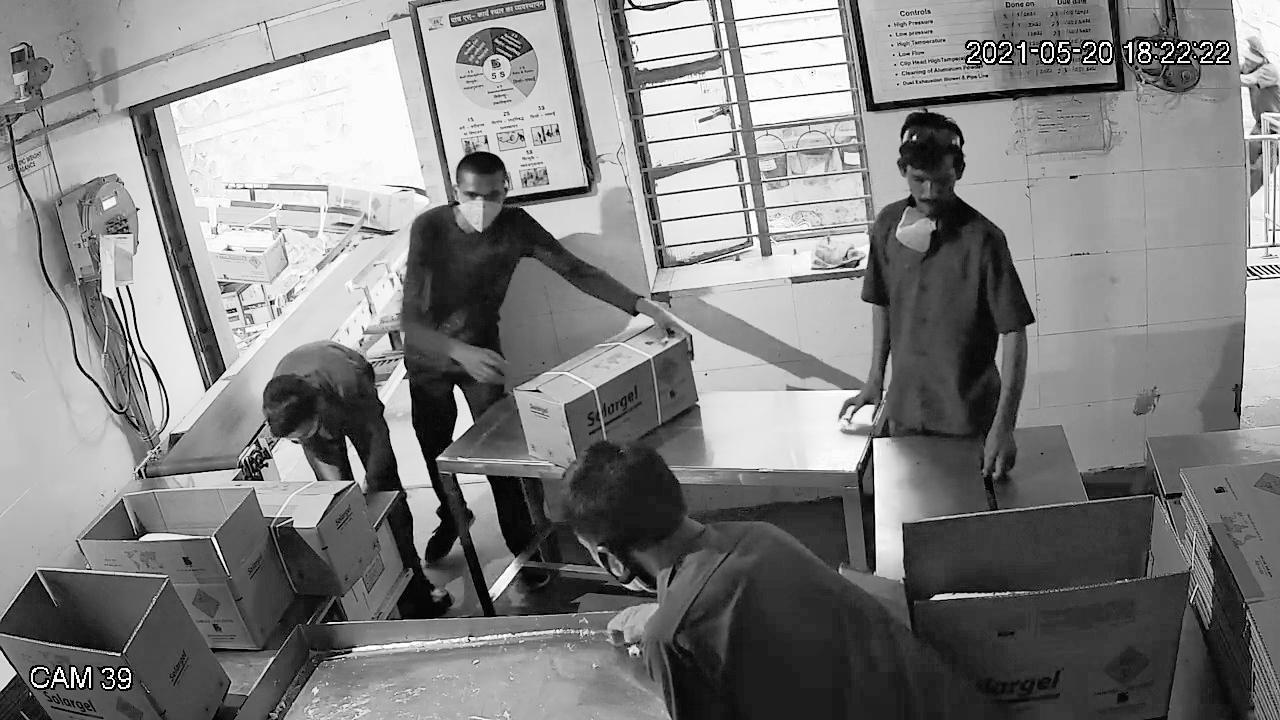no-welding-glass: (897, 159, 969, 197)
person: (836, 109, 1037, 489), (259, 344, 451, 619)
